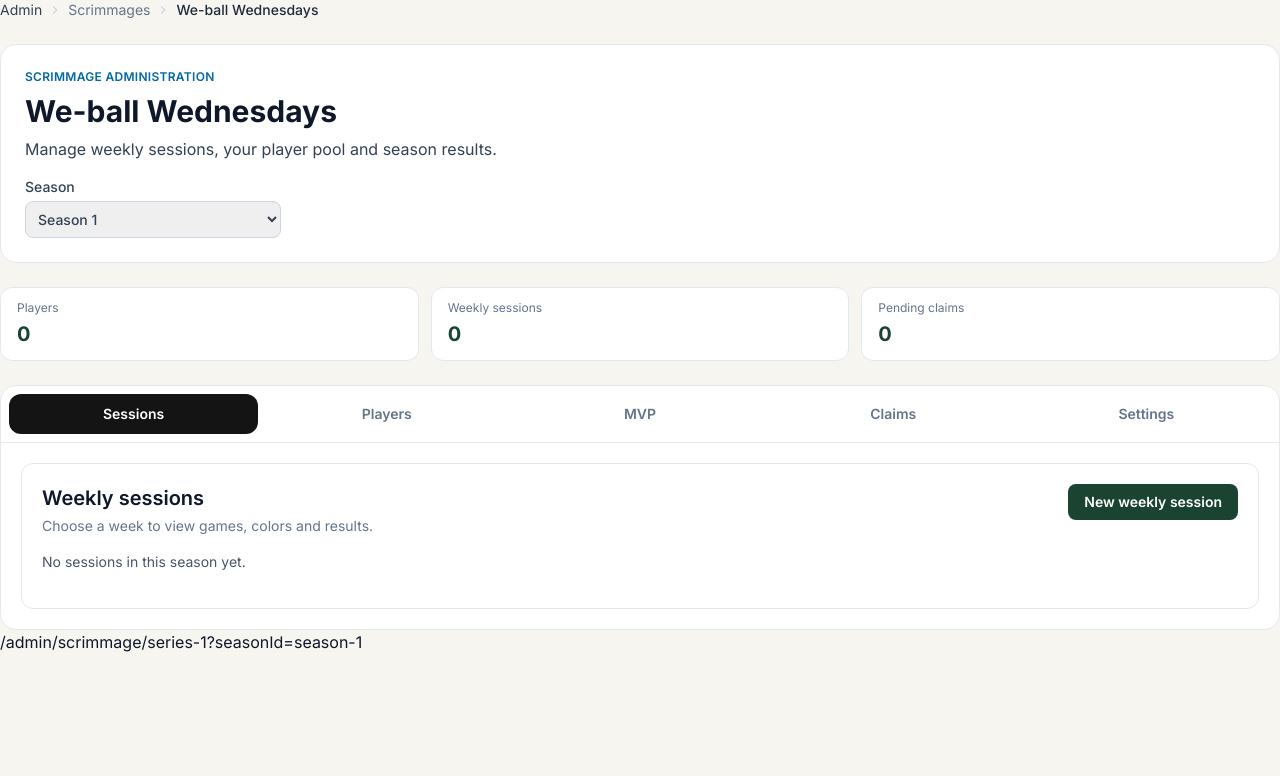
Test: scrimmage membership and MVP › admins land on sessions with creation and terms hidden until requested
The image size is (1280, 776).
Check: the heading "Weekly sessions" is shown, box [42,486,204,510]
Check: the text with test id "location" reads "/admin/scrimmage/series-1?seasonId=season-1", box [0,632,362,652]
Click the button "New weekly session": (1153, 502) [1068,484,1238,520]
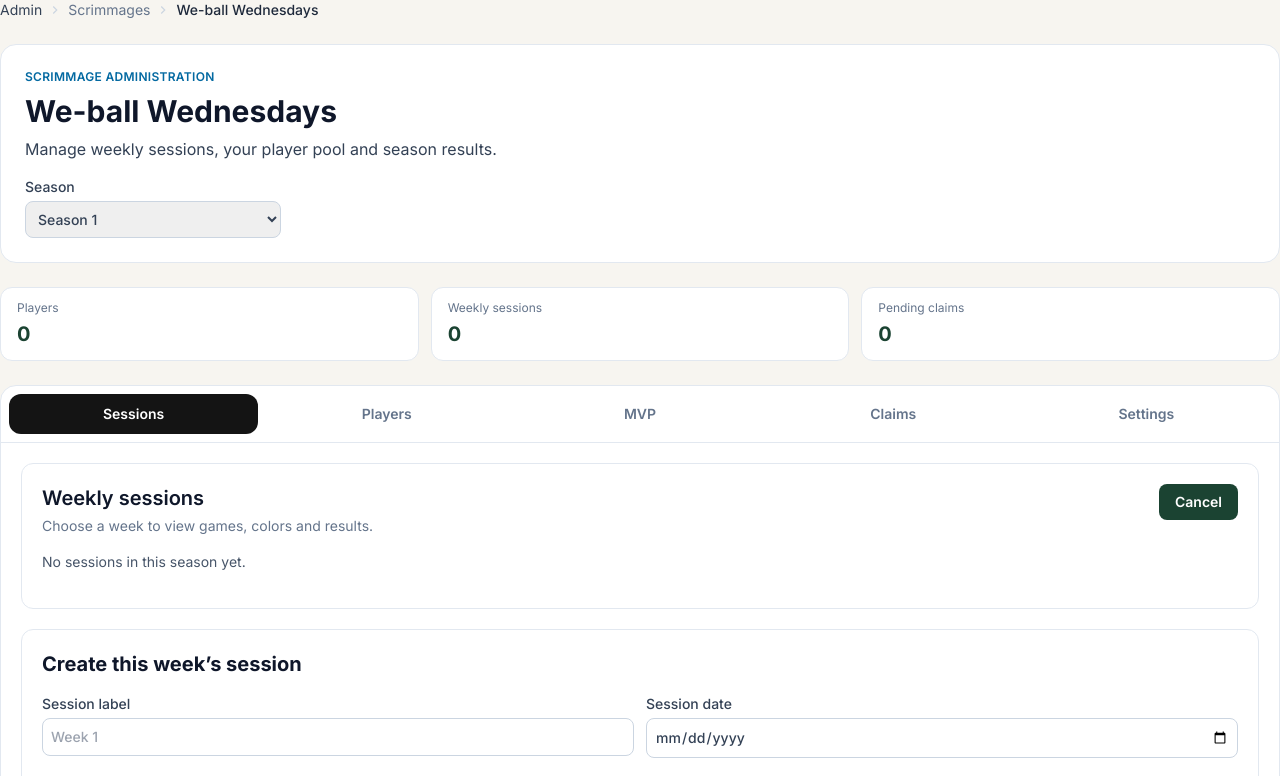
Check: the heading "Create this week’s session" is shown, box [42,652,302,676]
Click the tab "Settings": (1146, 414) [1022,394,1271,434]
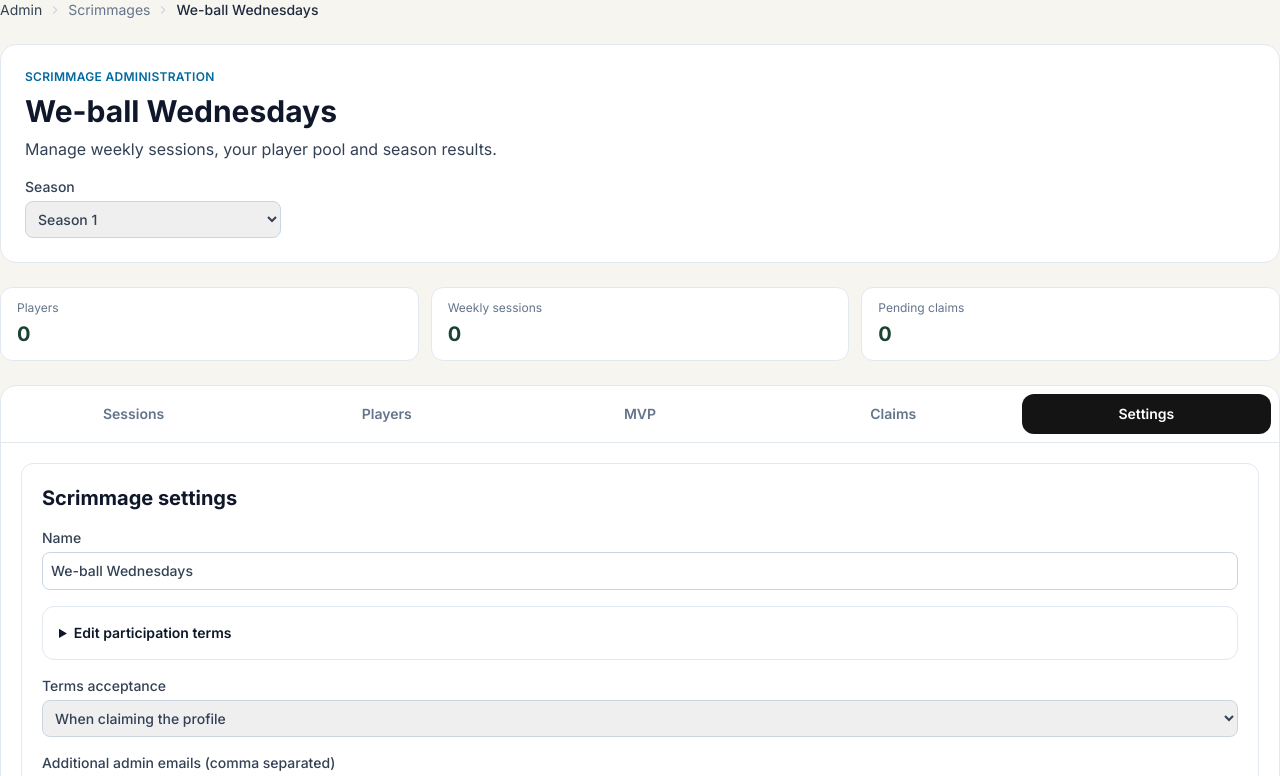
Check: the heading "Scrimmage settings" is shown, box [42,486,237,510]
Click the tab "Claims": (893, 414) [769,394,1018,434]
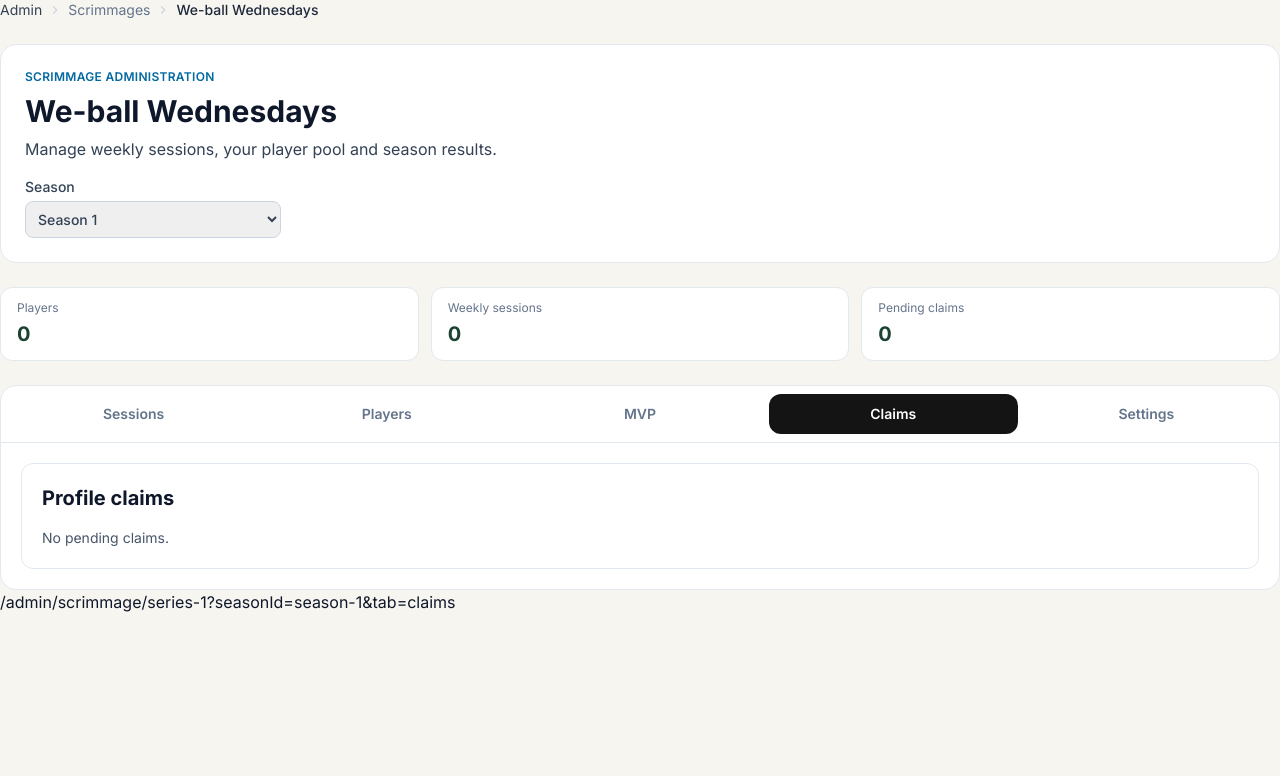
Check: the text "No pending claims." is shown, box [42,529,169,546]
